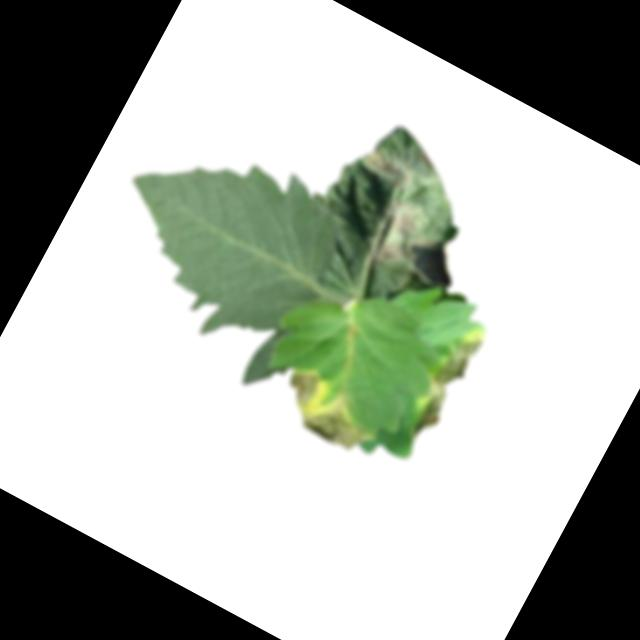Late_blight: (270, 362, 388, 461), (399, 320, 487, 448), (398, 225, 469, 293), (357, 142, 418, 194), (379, 192, 427, 237), (364, 229, 407, 274)
healthy: (82, 106, 361, 374)
